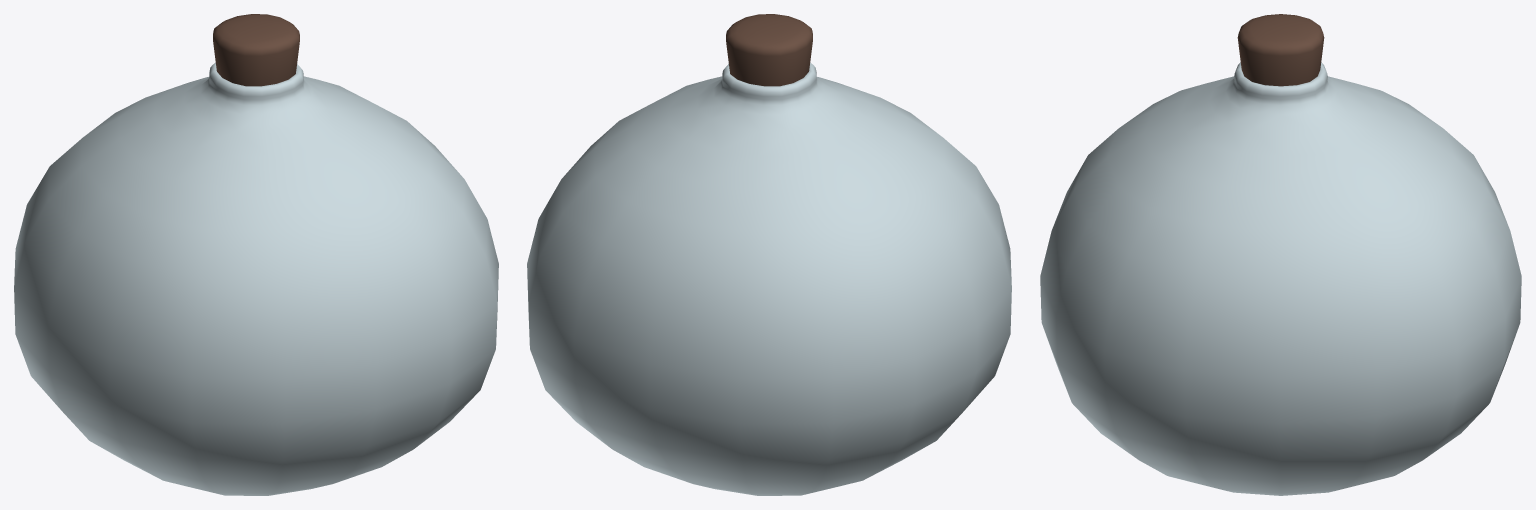
The model's file is rpg_potion9_filled.glb.
3 renders of one model, left to right at view 1: azimuth 30°, elevation 25°; view 2: azimuth 150°, elevation 25°; view 3: azimuth 270°, elevation 25°, orthographic.
Visible parts, largest first — view 1: Potion9_Filled; view 2: Potion9_Filled; view 3: Potion9_Filled.
Boxes of the visible parts, x1,y1,x2,y2 form: Potion9_Filled: (14, 14, 498, 495); Potion9_Filled: (527, 14, 1011, 495); Potion9_Filled: (1040, 14, 1521, 495).
Bounding box in the file's own units: 1.26 × 1.29 × 1.26.
